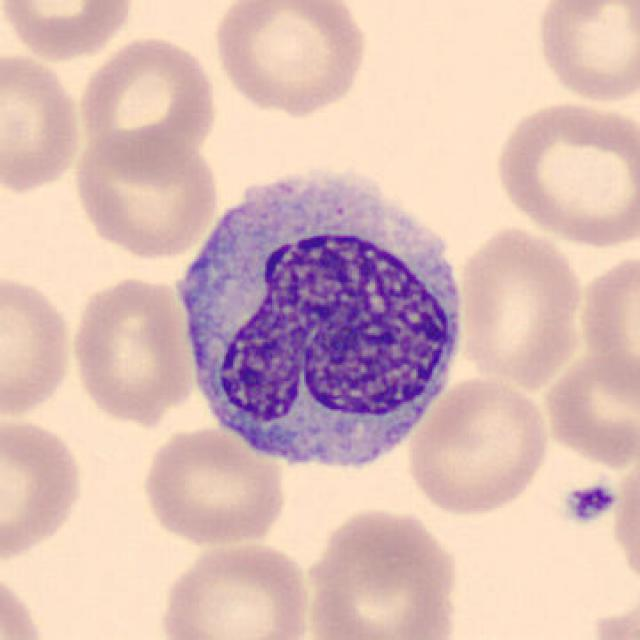Monocyte: (166, 153, 477, 485)
Platelets: (560, 478, 617, 527)
RBC: (452, 222, 586, 392), (491, 96, 638, 250), (300, 502, 464, 640), (403, 374, 553, 516), (73, 32, 220, 173), (70, 125, 222, 261), (68, 272, 199, 426), (208, 0, 372, 118), (137, 423, 290, 548), (153, 536, 315, 640), (0, 413, 87, 566), (0, 47, 85, 195), (537, 346, 638, 469), (0, 267, 76, 421), (530, 0, 638, 106), (574, 247, 638, 405), (0, 0, 138, 63), (608, 450, 640, 594), (0, 564, 50, 640), (584, 590, 638, 640)
